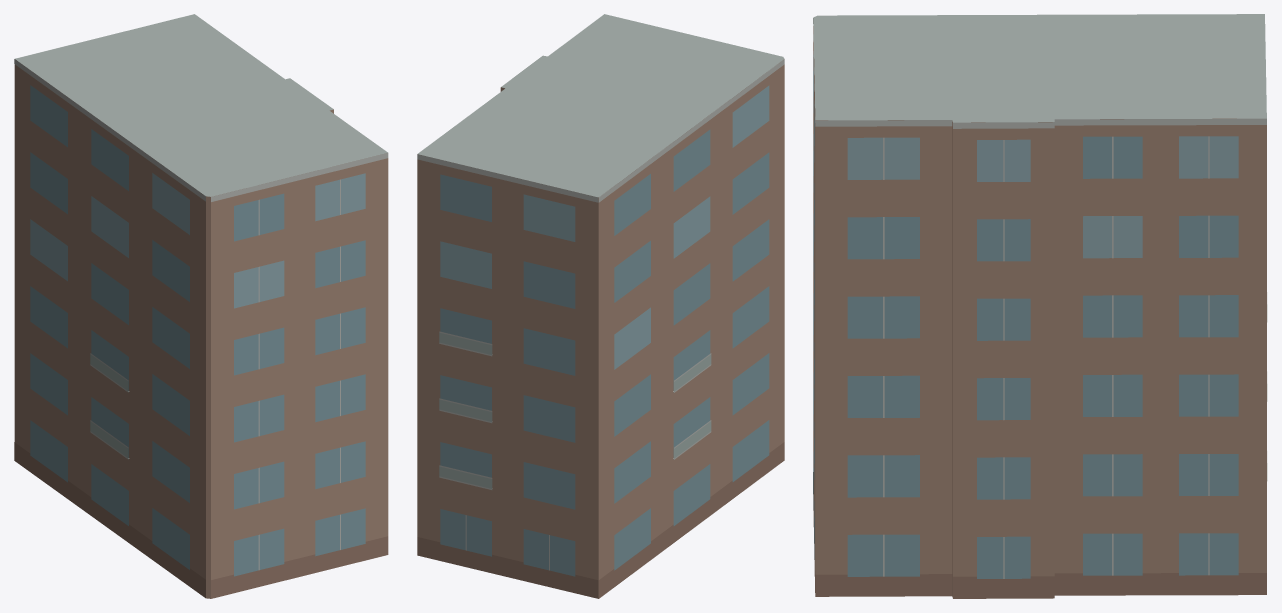
File: survey-upis-32960300.glb
The picture shows the model from 3 angles, left to right: view 1: azimuth 30°, elevation 25°; view 2: azimuth 150°, elevation 25°; view 3: azimuth 270°, elevation 25°; orthographic projection. The views are drawn at different scales.
Parts seen in each view (by area): view 1: survey-upis-32960300.tmp; view 2: survey-upis-32960300.tmp; view 3: survey-upis-32960300.tmp.
Part boxes in pixels (x1=…): survey-upis-32960300.tmp: x1=14, y1=14, x2=388, y2=598; survey-upis-32960300.tmp: x1=417, y1=14, x2=784, y2=598; survey-upis-32960300.tmp: x1=813, y1=14, x2=1267, y2=598.
Bounding box in the file's own units: 9 × 18.4 × 15.92.
